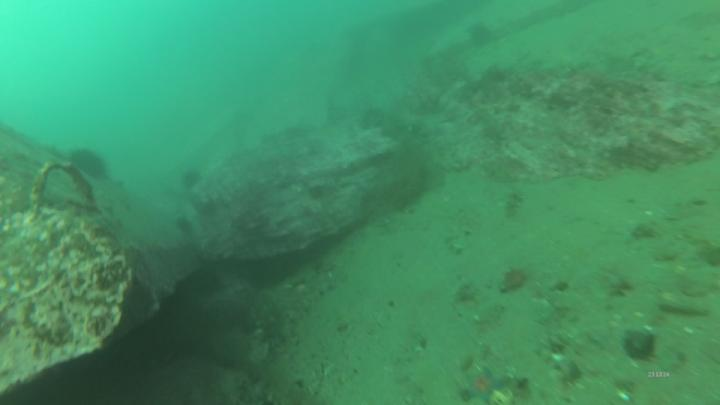echinus: (70, 144, 107, 186)
starfish: (464, 367, 509, 404), (466, 20, 496, 46)
